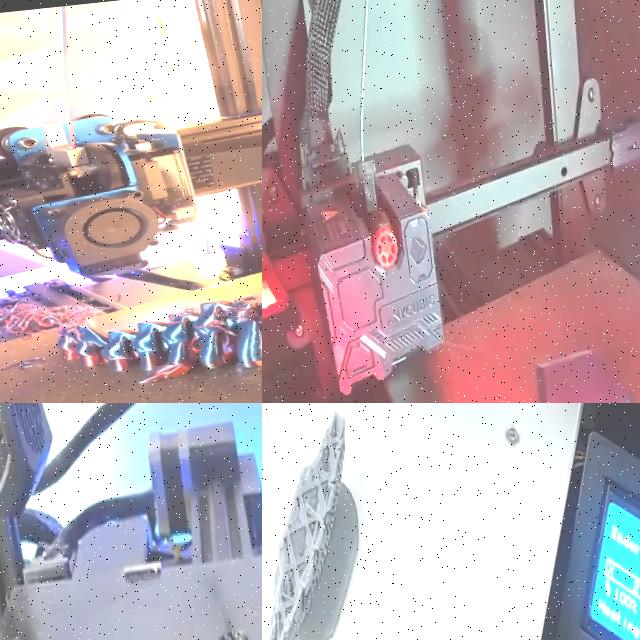spaghetti: (0, 306, 36, 344)
